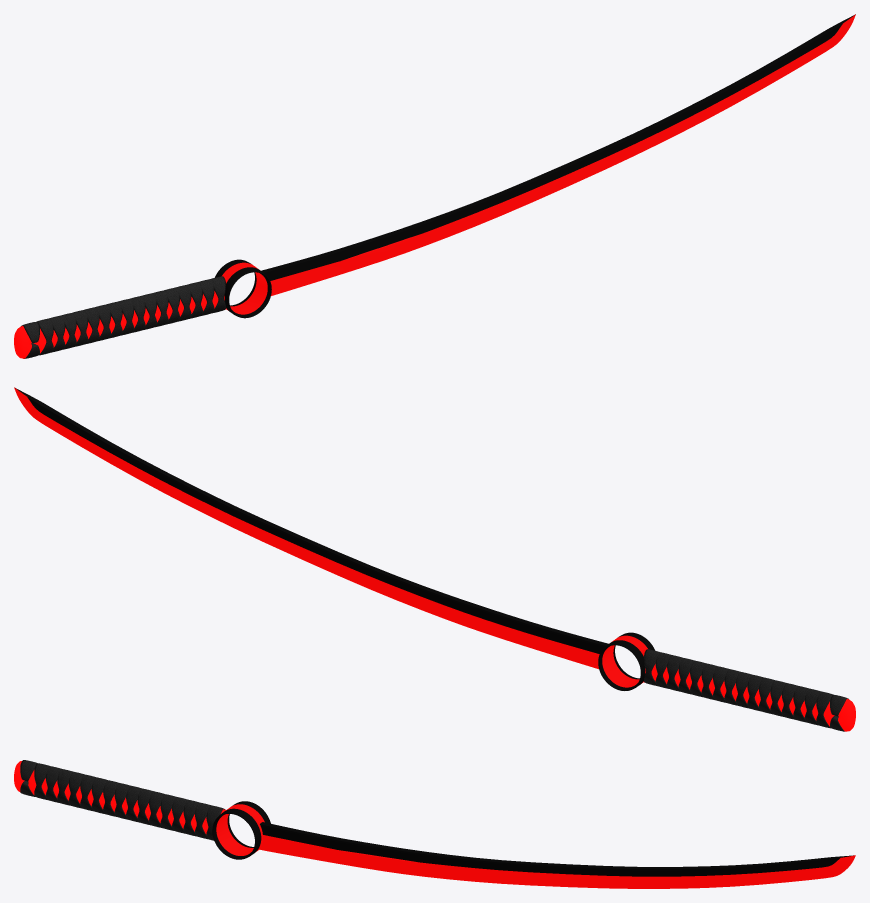
The model's file is cyber_katana.glb.
3 renders of one model, top to bottom at view 1: azimuth 30°, elevation 25°; view 2: azimuth 150°, elevation 25°; view 3: azimuth 330°, elevation 25°, orthographic.
Visible parts, largest first — view 1: skfb_offset; view 2: skfb_offset; view 3: skfb_offset.
Boxes of the visible parts, bbox=[...] form: skfb_offset: bbox=[14, 14, 855, 358]; skfb_offset: bbox=[14, 387, 855, 731]; skfb_offset: bbox=[14, 760, 855, 888].
Size of the model in its own units: 1.23 by 0.2071 by 0.0412.
Materials: 5 (3 with a texture image).
